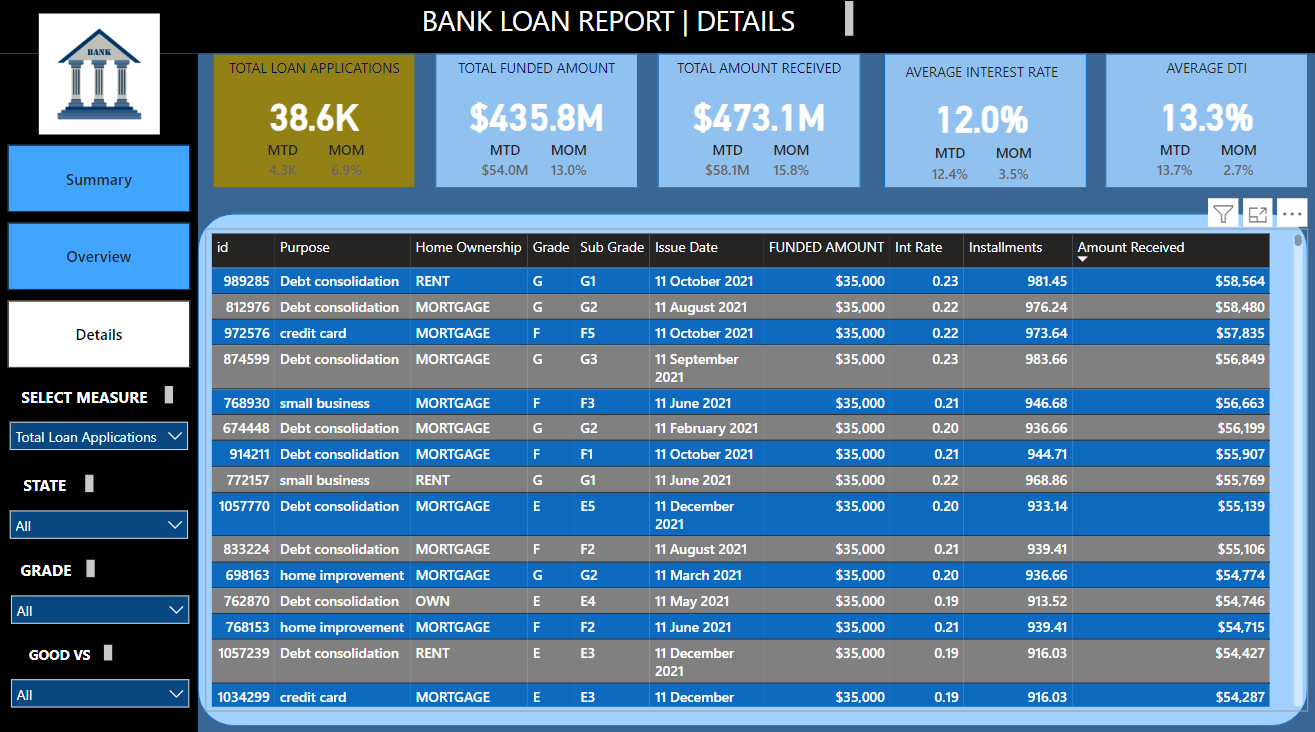

The dashboard page shown, as its layout file describes it:
{"tool":"powerbi","page":{"name":"Details","canvas":[1280,720],"ordinal":2},"visuals":[{"type":"shape","box":[0,0,1280,55.5],"z":0},{"type":"shape","box":[206.5,55.2,195.8,129.9],"z":0,"group":"g2"},{"type":"shape","box":[421,55.2,195.8,129.9],"z":0,"group":"g1"},{"type":"shape","box":[635.4,55.2,195.8,129.9],"z":0,"group":"g4"},{"type":"shape","box":[853.4,55.2,195.8,129.9],"z":0,"group":"g5"},{"type":"shape","box":[1067.9,55.2,195.8,129.9],"z":0,"group":"g6"},{"type":"textbox","box":[402.5,0,426.7,44.1],"z":1000},{"type":"card","fields":{"Values":["financial_loan.Total Loan Applications"]},"box":[206.5,87.2,195.8,51.6],"z":1000,"group":"g2"},{"type":"card","fields":{"Values":["financial_loan.TOTAL FUNDED AMOUNT"]},"box":[421,87.2,195.8,51.6],"z":1000,"group":"g1"},{"type":"card","fields":{"Values":["financial_loan.Total Amount Received"]},"box":[635.4,87.2,195.8,51.6],"z":1000,"group":"g4"},{"type":"card","fields":{"Values":["financial_loan.Avg DTI"]},"box":[1067.9,87.2,195.8,51.6],"z":1000,"group":"g6"},{"type":"card","fields":{"Values":["financial_loan.Average Interest rate"]},"box":[850,90.3,195.8,51.6],"z":1000,"group":"g5"},{"type":"shape","box":[0,55.2,192.2,663.9],"z":2000},{"type":"textbox","box":[206.5,55.2,195.8,32],"z":2000,"group":"g2"},{"type":"textbox","box":[421,55.2,195.8,32],"z":2000,"group":"g1"},{"type":"textbox","box":[635.4,55.2,195.8,32],"z":2000,"group":"g4"},{"type":"textbox","box":[1067.9,55.2,195.8,32],"z":2000,"group":"g6"},{"type":"textbox","box":[850,58.3,195.8,32],"z":2000,"group":"g5"},{"type":"card","title":"MTD","fields":{"Values":["financial_loan.MTD Loan Applications"]},"box":[242.1,138.8,62.3,46.3],"z":3000,"group":"g2"},{"type":"card","title":"MTD","fields":{"Values":["financial_loan.MTD total funded amount"]},"box":[456.6,138.8,62.3,46.3],"z":3000,"group":"g1"},{"type":"card","title":"MTD","fields":{"Values":["financial_loan.MTD Total amount recieved"]},"box":[671,138.8,62.3,46.3],"z":3000,"group":"g4"},{"type":"card","title":"MTD","fields":{"Values":["financial_loan.MTD avg dti"]},"box":[1103.5,138.8,62.3,46.3],"z":3000,"group":"g6"},{"type":"card","title":"MTD","fields":{"Values":["financial_loan.MTD avg interest rate"]},"box":[885.6,141.9,62.3,46.3],"z":3000,"group":"g5"},{"type":"textbox","box":[0,457.4,96.1,28.5],"z":3000},{"type":"card","title":"MOM","fields":{"Values":["financial_loan.MoM Loan Applications"]},"box":[304.4,138.8,62.3,46.3],"z":4000,"group":"g2"},{"type":"card","title":"MOM","fields":{"Values":["financial_loan.MoM Funded Amount"]},"box":[518.9,138.8,62.3,46.3],"z":4000,"group":"g1"},{"type":"card","title":"MOM","fields":{"Values":["financial_loan.MoM total Amount received"]},"box":[733.3,138.8,62.3,46.3],"z":4000,"group":"g4"},{"type":"card","title":"MOM","fields":{"Values":["financial_loan.MoM avg dti"]},"box":[1165.8,138.8,62.3,46.3],"z":4000,"group":"g6"},{"type":"card","title":"MOM","fields":{"Values":["financial_loan.MoM avg interest rate"]},"box":[947.9,141.9,62.3,46.3],"z":4000,"group":"g5"},{"type":"shape","box":[192.2,210,1071.4,494.8],"z":4000},{"type":"group","id":"g1","title":"Group 2","box":[421,55.2,195.8,129.9],"z":4001,"group":"g3"},{"type":"group","id":"g2","title":"Group 1","box":[206.5,55.2,195.8,129.9],"z":5000},{"type":"group","id":"g3","title":"Group 1","box":[421,55.2,195.8,129.9],"z":6000},{"type":"group","id":"g4","title":"Group 2","box":[635.4,55.2,195.8,129.9],"z":7000},{"type":"group","id":"g5","title":"Group 2","box":[850,55.2,199.2,133],"z":8000},{"type":"group","id":"g6","title":"Group 2","box":[1067.9,55.2,195.8,129.9],"z":9000},{"type":"slicer","fields":{"Values":["financial_loan.address_state"]},"box":[0,485.9,192.2,40.9],"z":10000},{"type":"slicer","fields":{"Values":["financial_loan.grade"]},"box":[1.8,567.8,192.2,40.9],"z":11000},{"type":"textbox","box":[1.8,539.3,96.1,28.5],"z":12000},{"type":"slicer","fields":{"Values":["financial_loan.Good Vs Bad Loan"]},"box":[1.8,649.6,192.2,40.9],"z":13000},{"type":"textbox","box":[10.7,621.1,103.2,28.5],"z":14000},{"type":"slicer","fields":{"Values":["Select measure.Select measure"]},"box":[0,400.5,192.2,57],"z":15000},{"type":"textbox","box":[0,372,172.6,28.5],"z":16000},{"type":"tableEx","fields":{"Values":["financial_loan.id","financial_loan.purpose","financial_loan.home_ownership","financial_loan.grade","financial_loan.sub_grade","financial_loan.issue_date","financial_loan.TOTAL FUNDED AMOUNT","Sum(financial_loan.int_rate)","Sum(financial_loan.installment)","financial_loan.Total Amount Received"]},"box":[199.3,224.3,1064.3,466.3],"z":17000},{"type":"pageNavigator","box":[8.9,144.2,176.2,215.4],"z":18000},{"type":"image","box":[4.8,12.1,183.4,126.7],"z":19000}]}

Visuals, with their boxes on the page's 1280x720 design canvas (x1, y1, x2, y2). These are canvas units, not pixel positions in the 1315x732 screenshot, which may show the page scaled, cropped or inside an application window:
shape: pyautogui.locateOnScreen(0, 0, 1280, 56)
shape: pyautogui.locateOnScreen(206, 55, 402, 185)
shape: pyautogui.locateOnScreen(421, 55, 617, 185)
shape: pyautogui.locateOnScreen(635, 55, 831, 185)
shape: pyautogui.locateOnScreen(853, 55, 1049, 185)
shape: pyautogui.locateOnScreen(1068, 55, 1264, 185)
textbox: pyautogui.locateOnScreen(402, 0, 829, 44)
card - financial_loan.Total Loan Applications: pyautogui.locateOnScreen(206, 87, 402, 139)
card - financial_loan.TOTAL FUNDED AMOUNT: pyautogui.locateOnScreen(421, 87, 617, 139)
card - financial_loan.Total Amount Received: pyautogui.locateOnScreen(635, 87, 831, 139)
card - financial_loan.Avg DTI: pyautogui.locateOnScreen(1068, 87, 1264, 139)
card - financial_loan.Average Interest rate: pyautogui.locateOnScreen(850, 90, 1046, 142)
shape: pyautogui.locateOnScreen(0, 55, 192, 719)
textbox: pyautogui.locateOnScreen(206, 55, 402, 87)
textbox: pyautogui.locateOnScreen(421, 55, 617, 87)
textbox: pyautogui.locateOnScreen(635, 55, 831, 87)
textbox: pyautogui.locateOnScreen(1068, 55, 1264, 87)
textbox: pyautogui.locateOnScreen(850, 58, 1046, 90)
"MTD" card: pyautogui.locateOnScreen(242, 139, 304, 185)
"MTD" card: pyautogui.locateOnScreen(457, 139, 519, 185)
"MTD" card: pyautogui.locateOnScreen(671, 139, 733, 185)
"MTD" card: pyautogui.locateOnScreen(1104, 139, 1166, 185)
"MTD" card: pyautogui.locateOnScreen(886, 142, 948, 188)
textbox: pyautogui.locateOnScreen(0, 457, 96, 486)
"MOM" card: pyautogui.locateOnScreen(304, 139, 367, 185)
"MOM" card: pyautogui.locateOnScreen(519, 139, 581, 185)
"MOM" card: pyautogui.locateOnScreen(733, 139, 796, 185)
"MOM" card: pyautogui.locateOnScreen(1166, 139, 1228, 185)
"MOM" card: pyautogui.locateOnScreen(948, 142, 1010, 188)
shape: pyautogui.locateOnScreen(192, 210, 1264, 705)
"Group 2" group: pyautogui.locateOnScreen(421, 55, 617, 185)
"Group 1" group: pyautogui.locateOnScreen(206, 55, 402, 185)
"Group 1" group: pyautogui.locateOnScreen(421, 55, 617, 185)
"Group 2" group: pyautogui.locateOnScreen(635, 55, 831, 185)
"Group 2" group: pyautogui.locateOnScreen(850, 55, 1049, 188)
"Group 2" group: pyautogui.locateOnScreen(1068, 55, 1264, 185)
slicer - financial_loan.address_state: pyautogui.locateOnScreen(0, 486, 192, 527)
slicer - financial_loan.grade: pyautogui.locateOnScreen(2, 568, 194, 609)
textbox: pyautogui.locateOnScreen(2, 539, 98, 568)
slicer - financial_loan.Good Vs Bad Loan: pyautogui.locateOnScreen(2, 650, 194, 690)
textbox: pyautogui.locateOnScreen(11, 621, 114, 650)
slicer - Select measure.Select measure: pyautogui.locateOnScreen(0, 400, 192, 458)
textbox: pyautogui.locateOnScreen(0, 372, 173, 400)
tableEx - financial_loan.id x financial_loan.purpose: pyautogui.locateOnScreen(199, 224, 1264, 691)
pageNavigator: pyautogui.locateOnScreen(9, 144, 185, 360)
image: pyautogui.locateOnScreen(5, 12, 188, 139)
